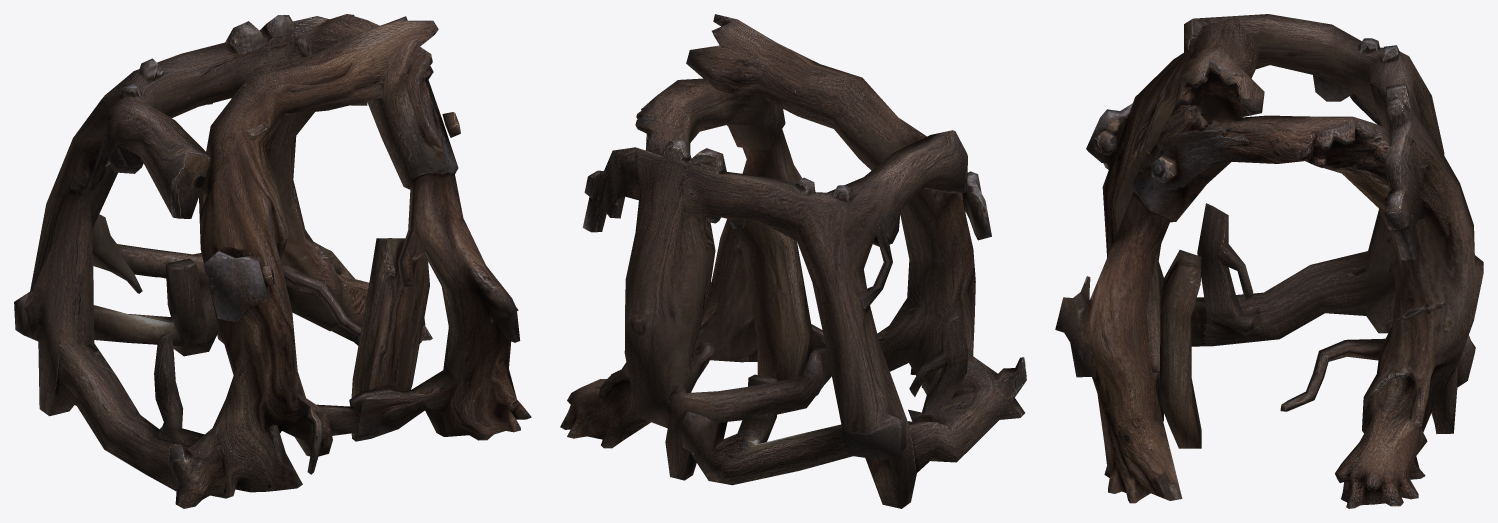
File: tangled_root_sculpture.glb
3 views of the same model, side by side, from view 1: azimuth 30°, elevation 25°; view 2: azimuth 150°, elevation 25°; view 3: azimuth 270°, elevation 25° (orthographic). The views are drawn at different scales.
Visible parts, largest first — view 1: tripo_node_082aa72e-e139-4283-847f-fe892195e321; view 2: tripo_node_082aa72e-e139-4283-847f-fe892195e321; view 3: tripo_node_082aa72e-e139-4283-847f-fe892195e321.
Part boxes in pixels (left/top/right/bottom): tripo_node_082aa72e-e139-4283-847f-fe892195e321: left=14, top=14, right=531, bottom=508; tripo_node_082aa72e-e139-4283-847f-fe892195e321: left=560, top=14, right=1026, bottom=508; tripo_node_082aa72e-e139-4283-847f-fe892195e321: left=1055, top=14, right=1483, bottom=508.
Size of the model in its own units: 0.998 by 0.9863 by 0.9551.
Materials: 1 (1 with a texture image).
